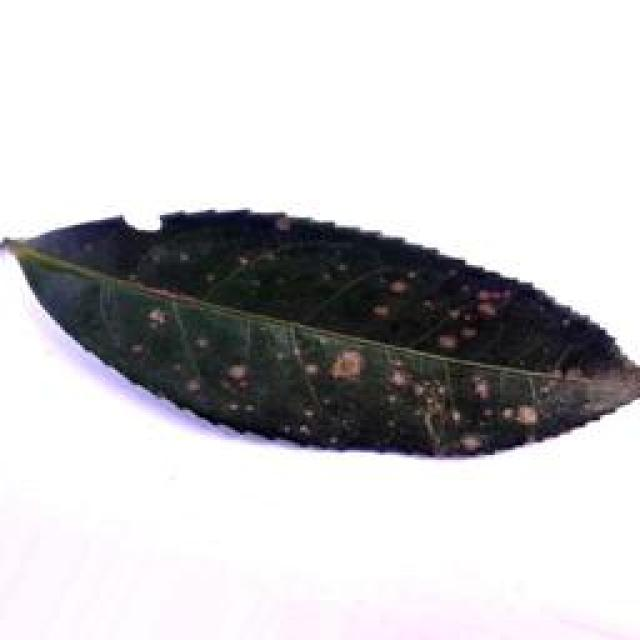Algal Leaf Spot: (0, 189, 634, 465)
